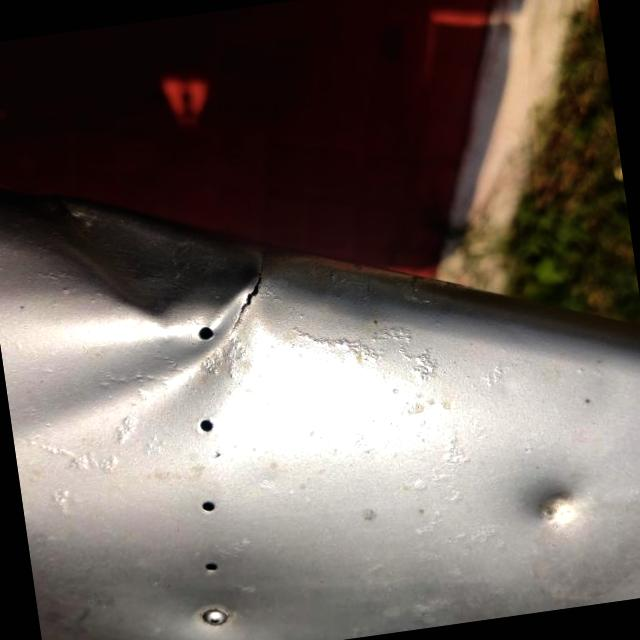crack: (197, 231, 295, 356)
dent: (0, 142, 299, 469), (498, 454, 602, 554)
